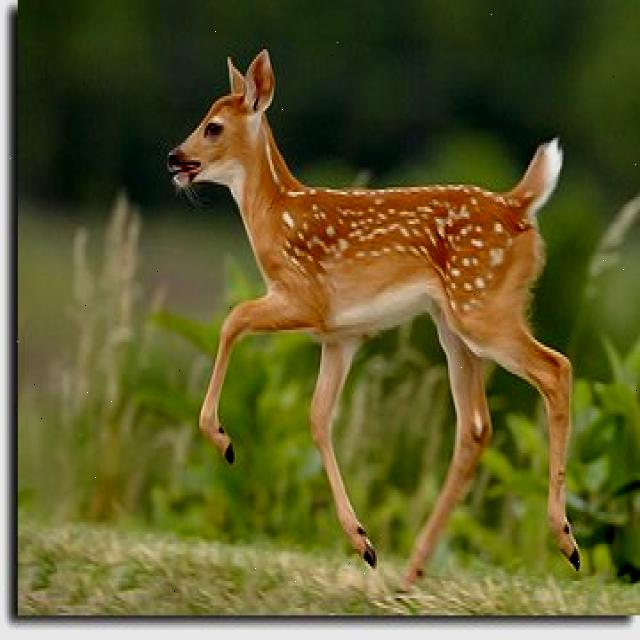deer: (159, 43, 305, 197)
